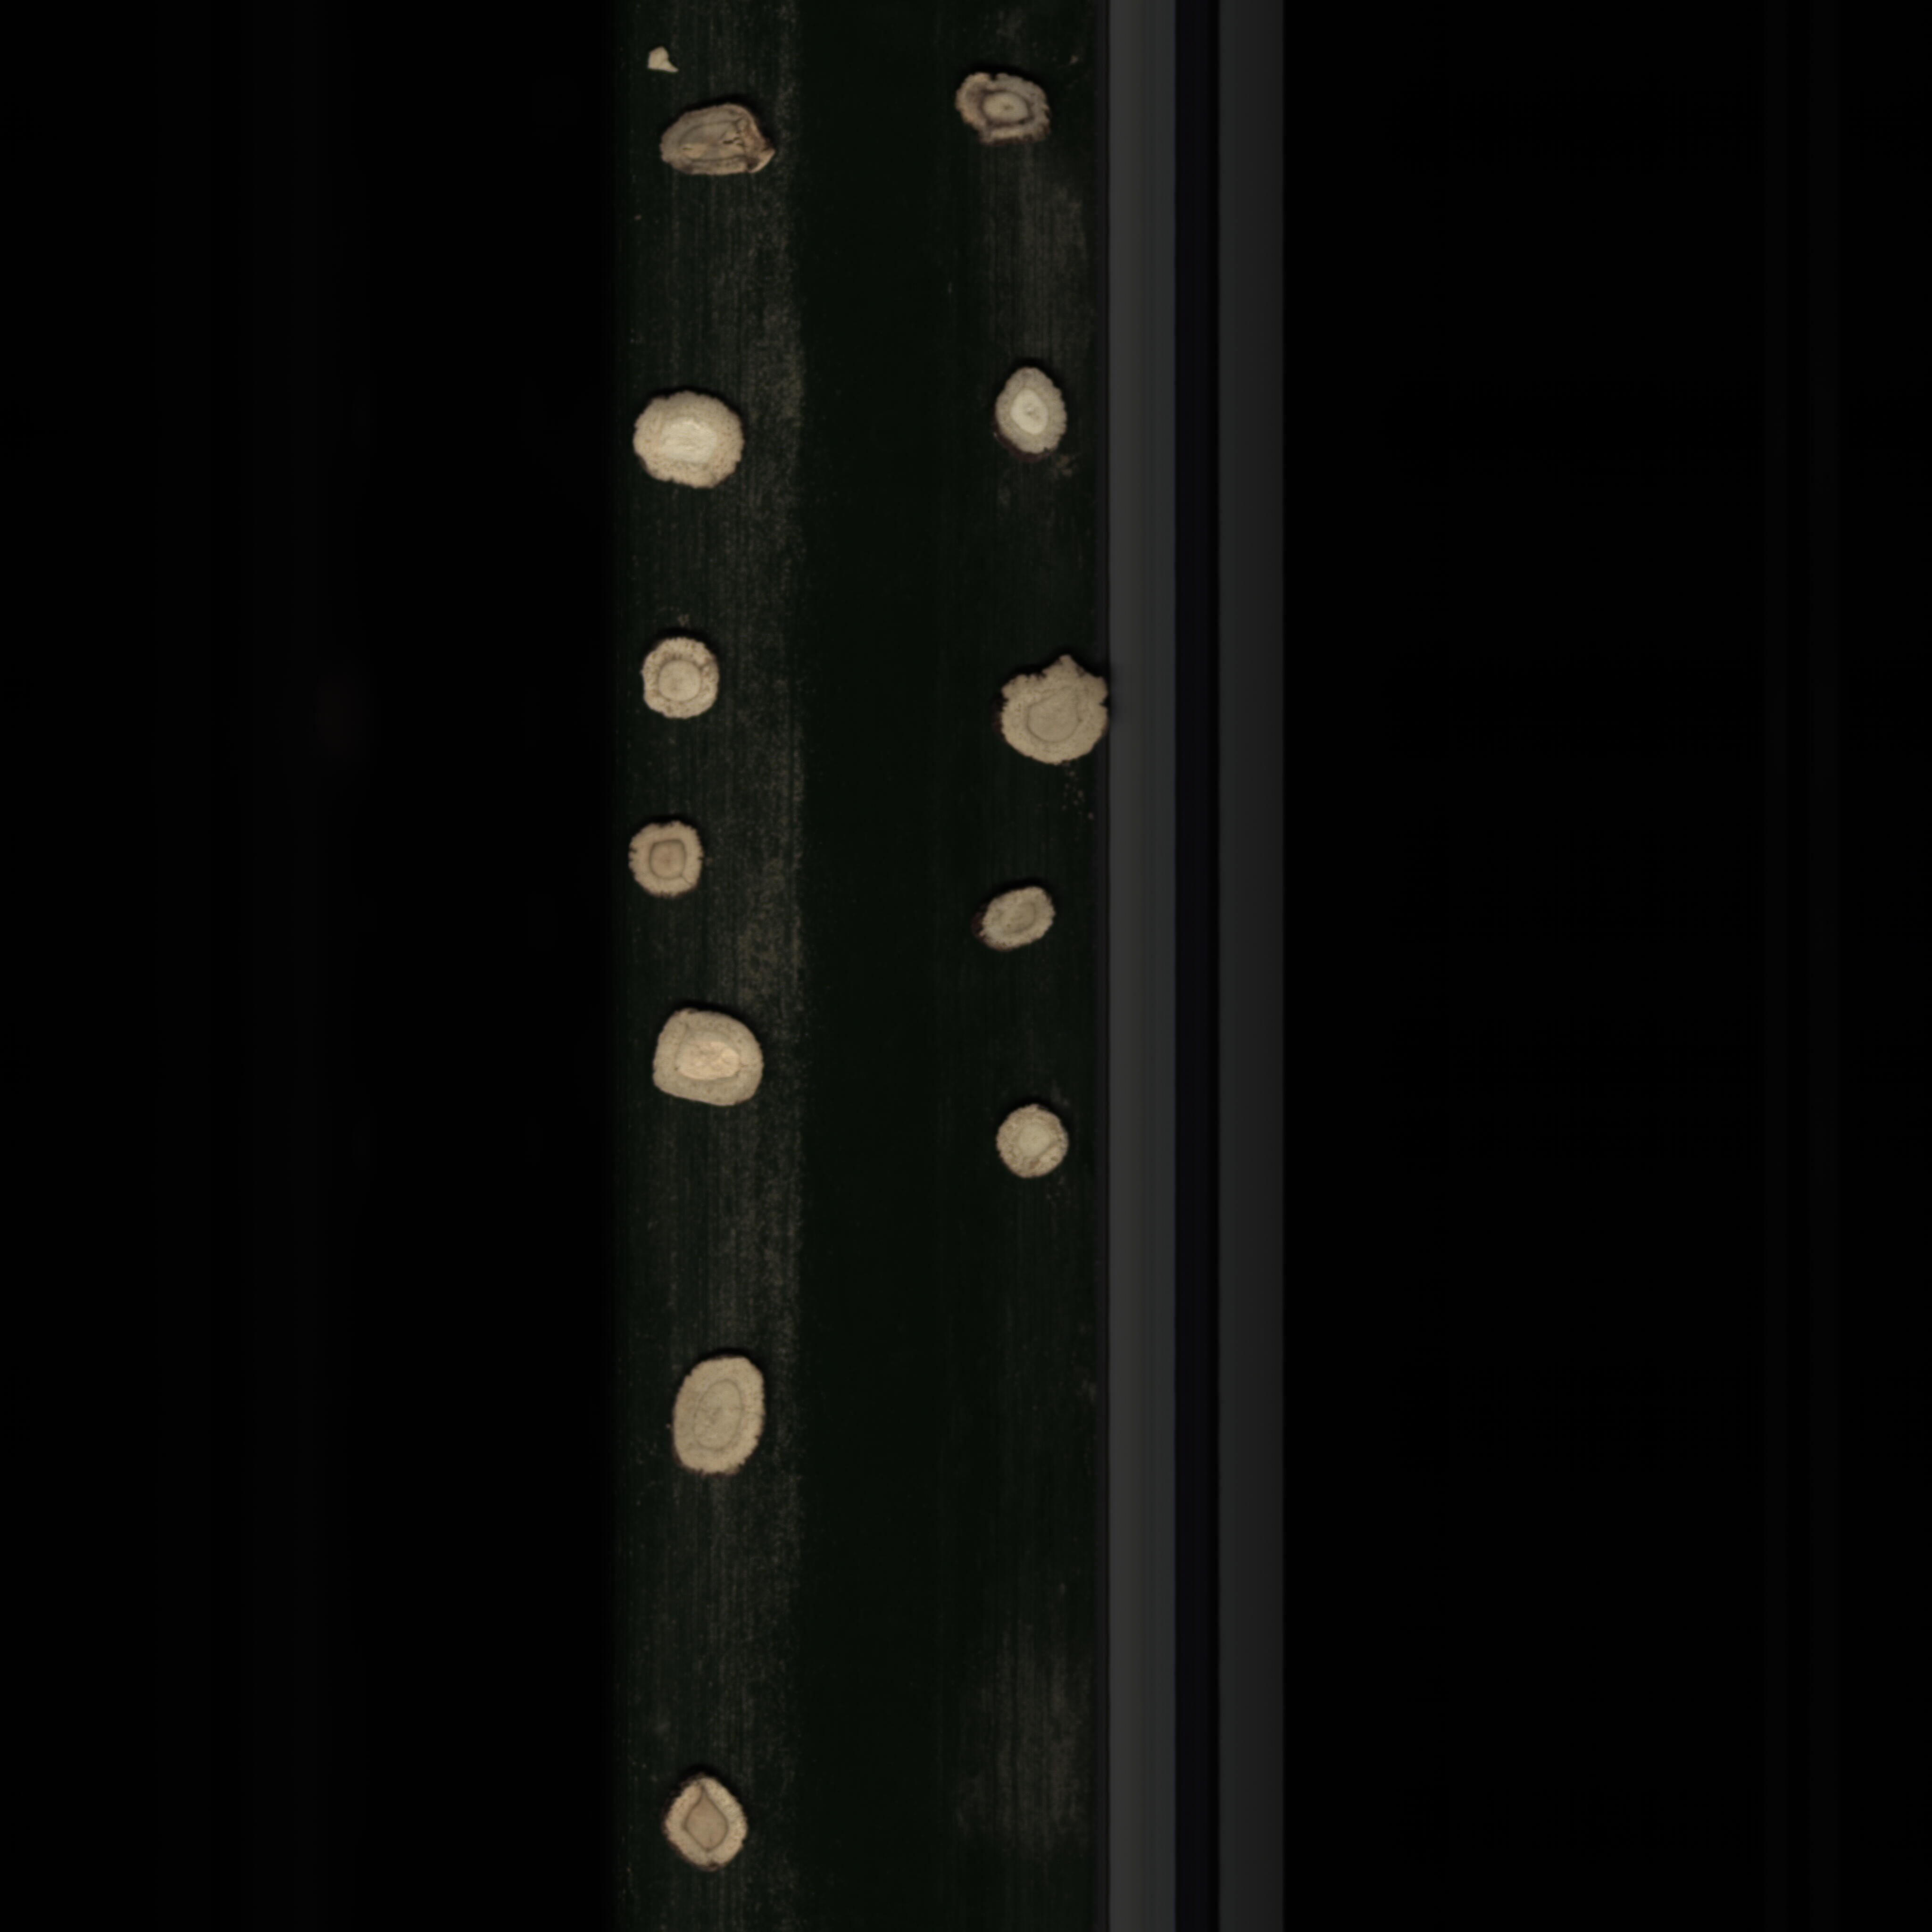debris: (626, 39, 678, 83)
moldy: (655, 103, 791, 195), (655, 1771, 763, 1882), (939, 62, 1056, 147), (621, 817, 722, 902)
